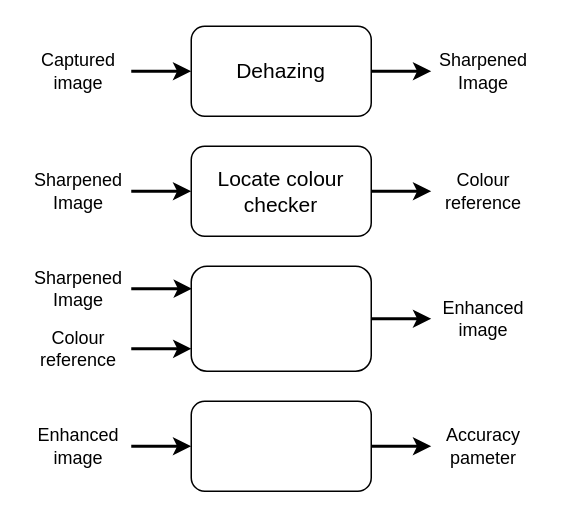
Image size: 561x518. Some labels were removed from this diagram. Here are the shapes that lost their labels. From the top down, the box of each, then its label:
(190, 265, 371, 371): Colour calibration
(190, 400, 371, 491): Image validation
